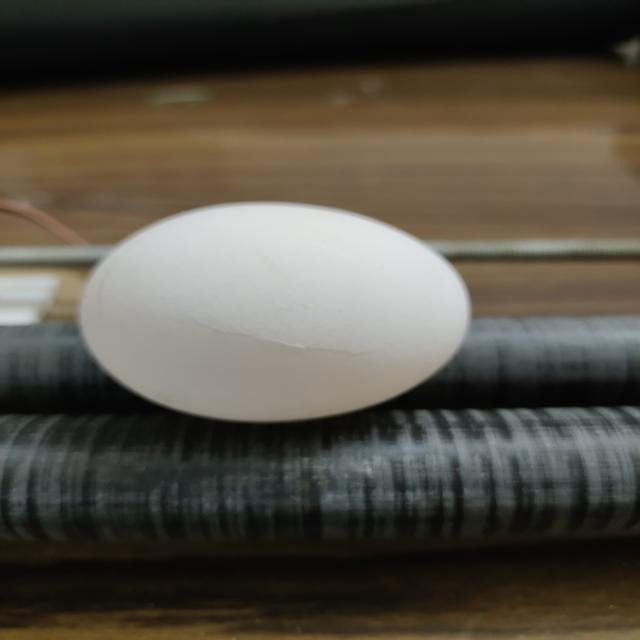Eggs: (81, 202, 472, 423)
